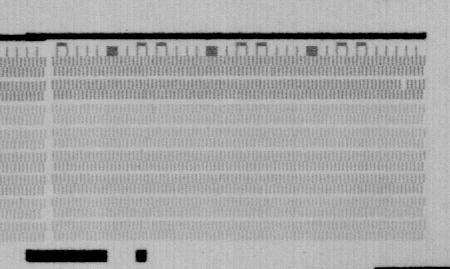Broken hole: (398, 80, 410, 90)
